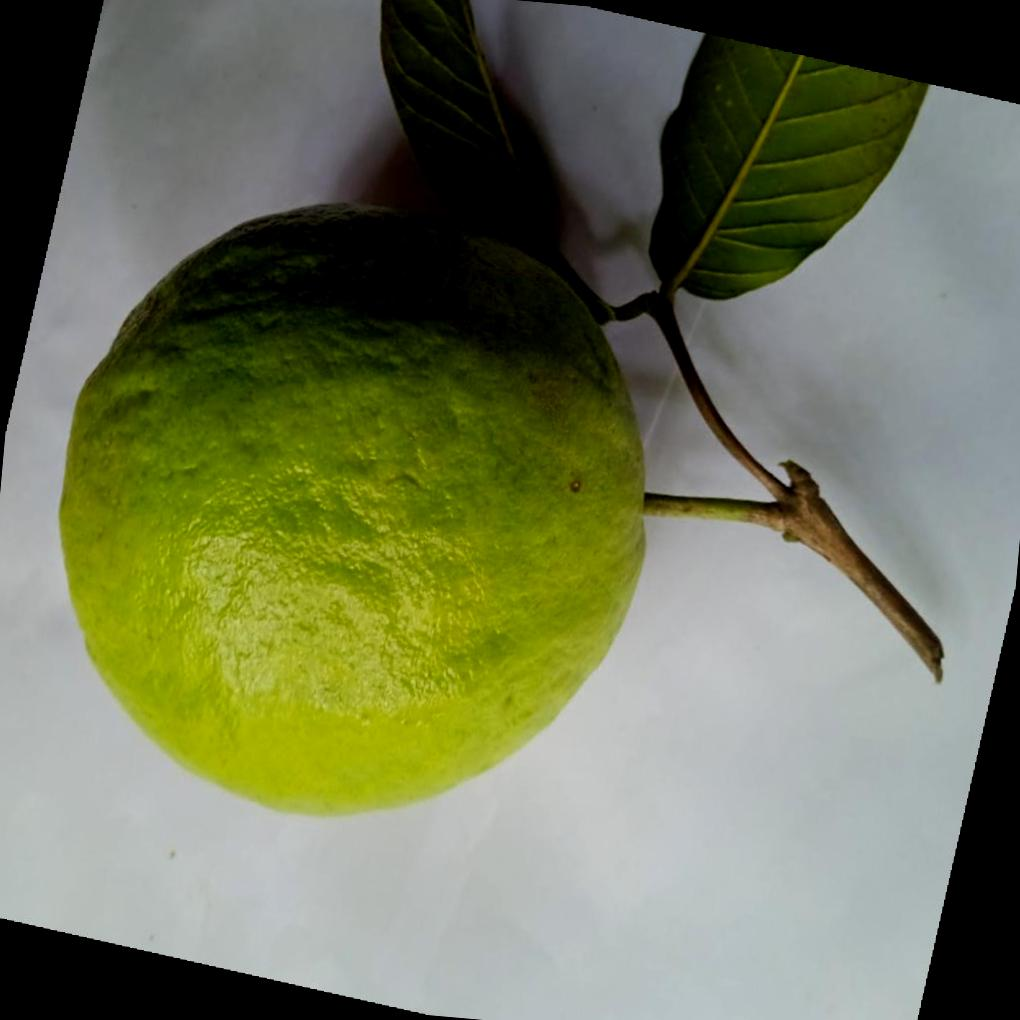FreshGuava: (58, 0, 946, 819)
